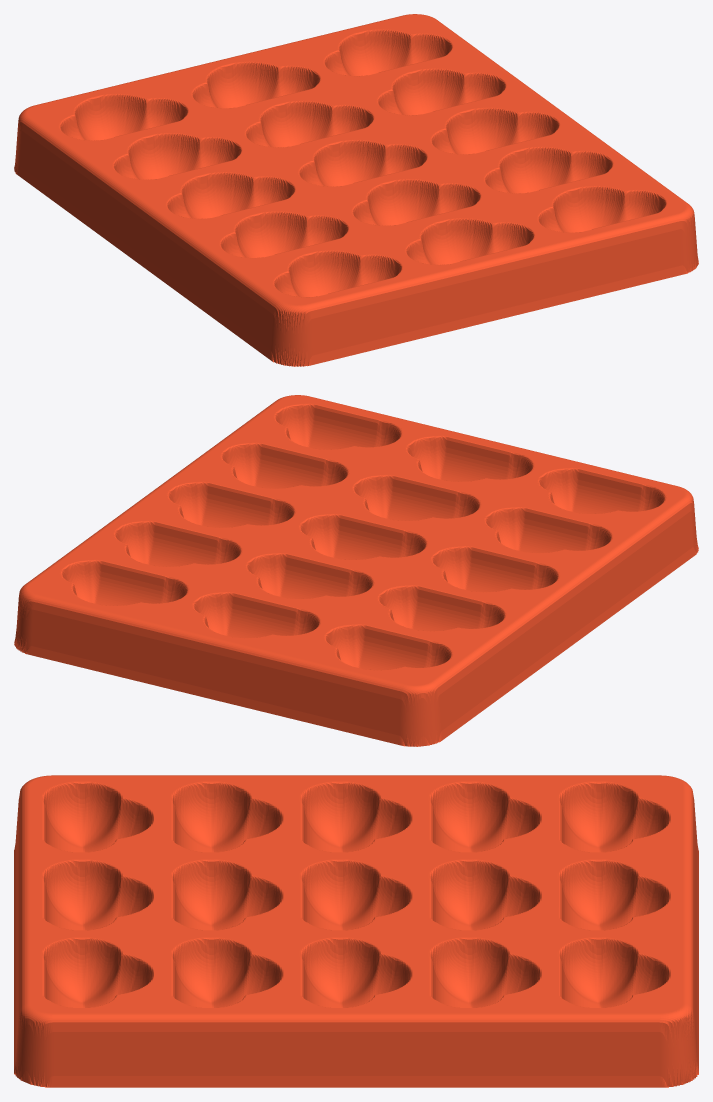
File: mold.glb
3 views of the same model, one above another, from view 1: azimuth 30°, elevation 25°; view 2: azimuth 150°, elevation 25°; view 3: azimuth 270°, elevation 25° (orthographic). The views are drawn at different scales.
Visible parts, largest first — view 1: geometry_0; view 2: geometry_0; view 3: geometry_0.
Part boxes in pixels (x1,y1,x2,y2): geometry_0: [14, 14, 698, 366]; geometry_0: [14, 395, 698, 746]; geometry_0: [14, 775, 698, 1087].
Bounding box in the file's own units: 0.1392 × 0.0175 × 0.161.
